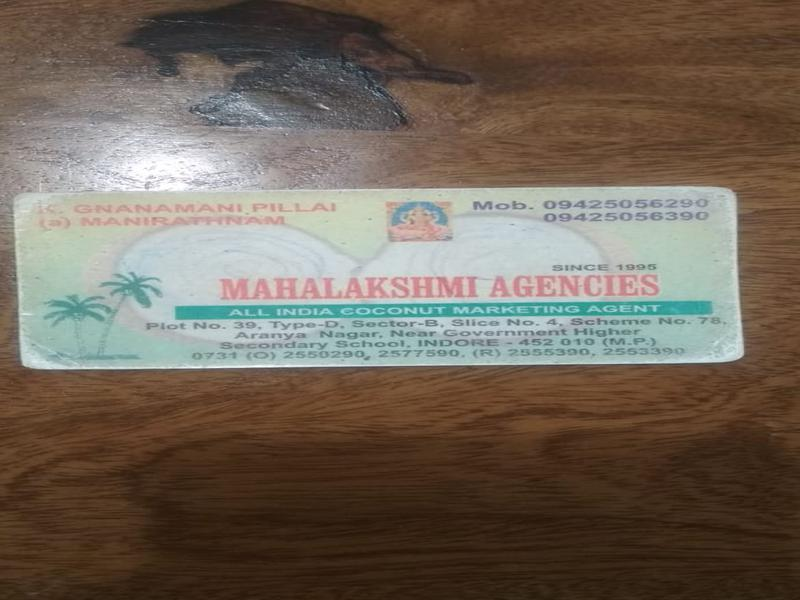card: (14, 189, 752, 369)
